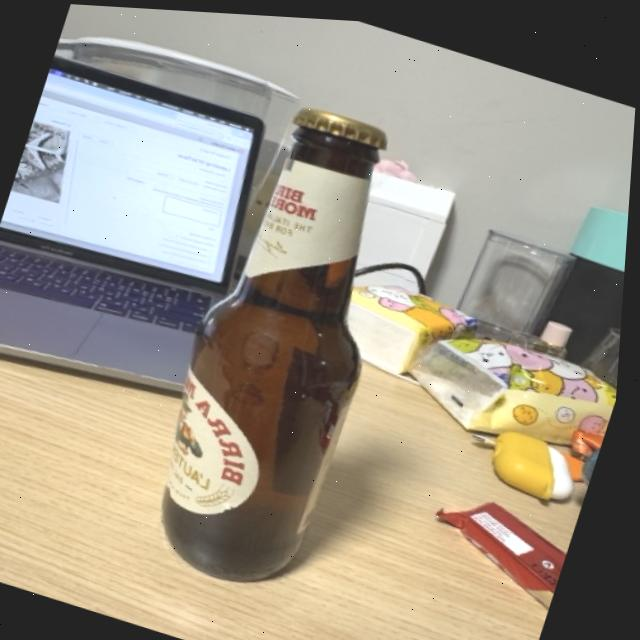beer: (102, 76, 457, 616)
chocolate: (416, 468, 586, 610)
